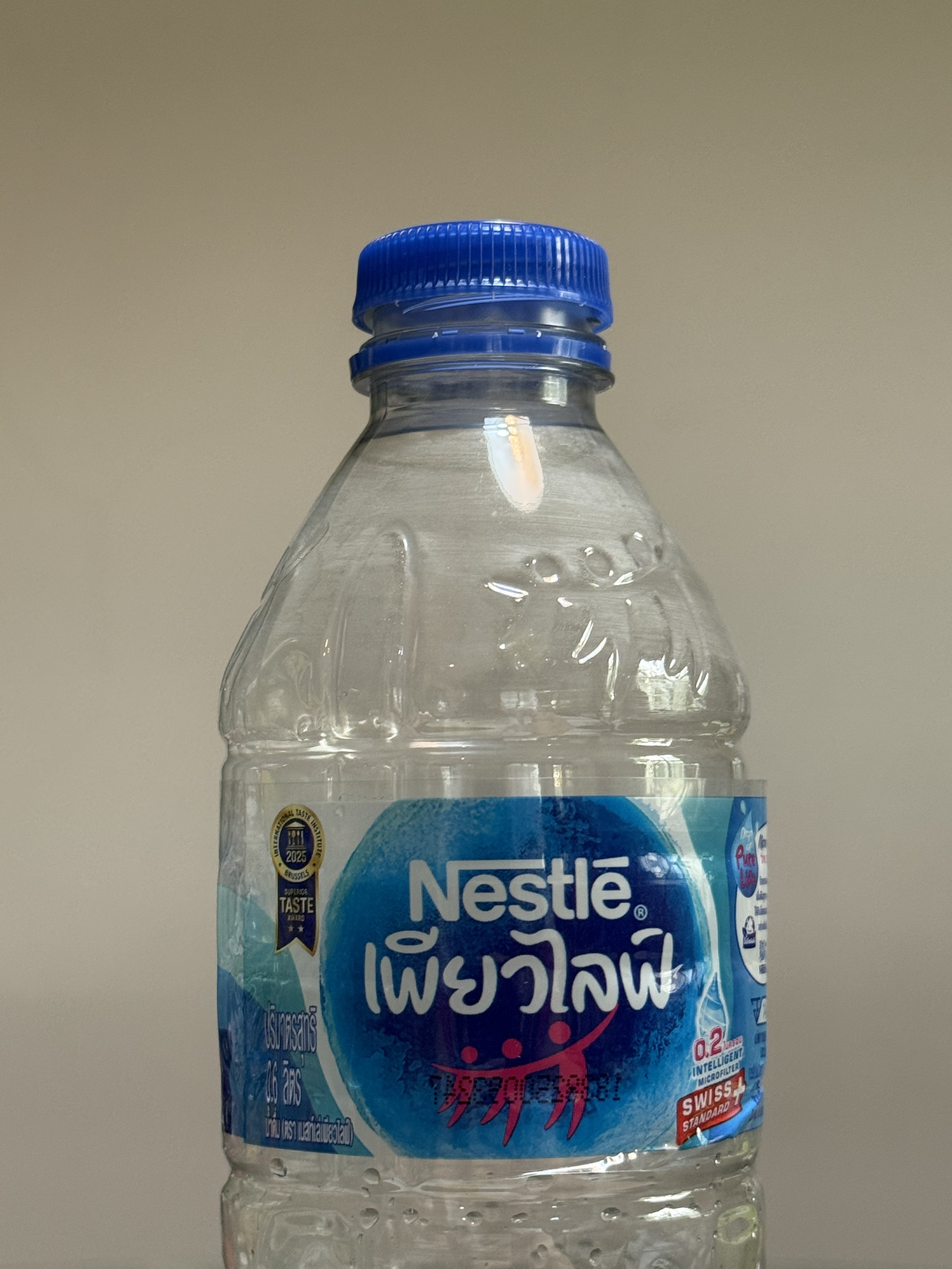half_cap: (341, 212, 621, 391)
